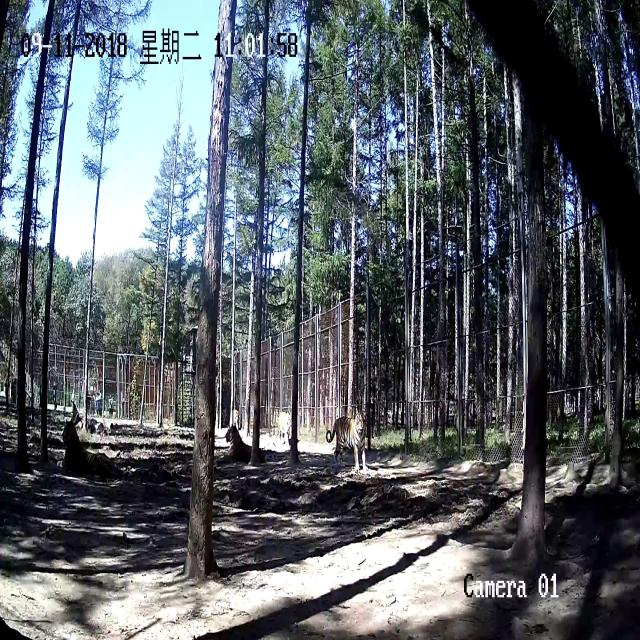Tiger: (41, 408, 135, 496), (322, 395, 377, 495), (218, 427, 270, 471), (274, 406, 298, 447), (229, 402, 242, 432)
